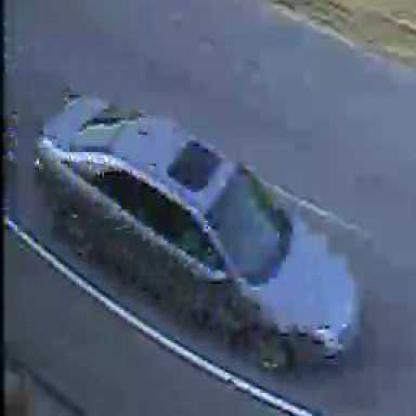car: (37, 97, 368, 373)
